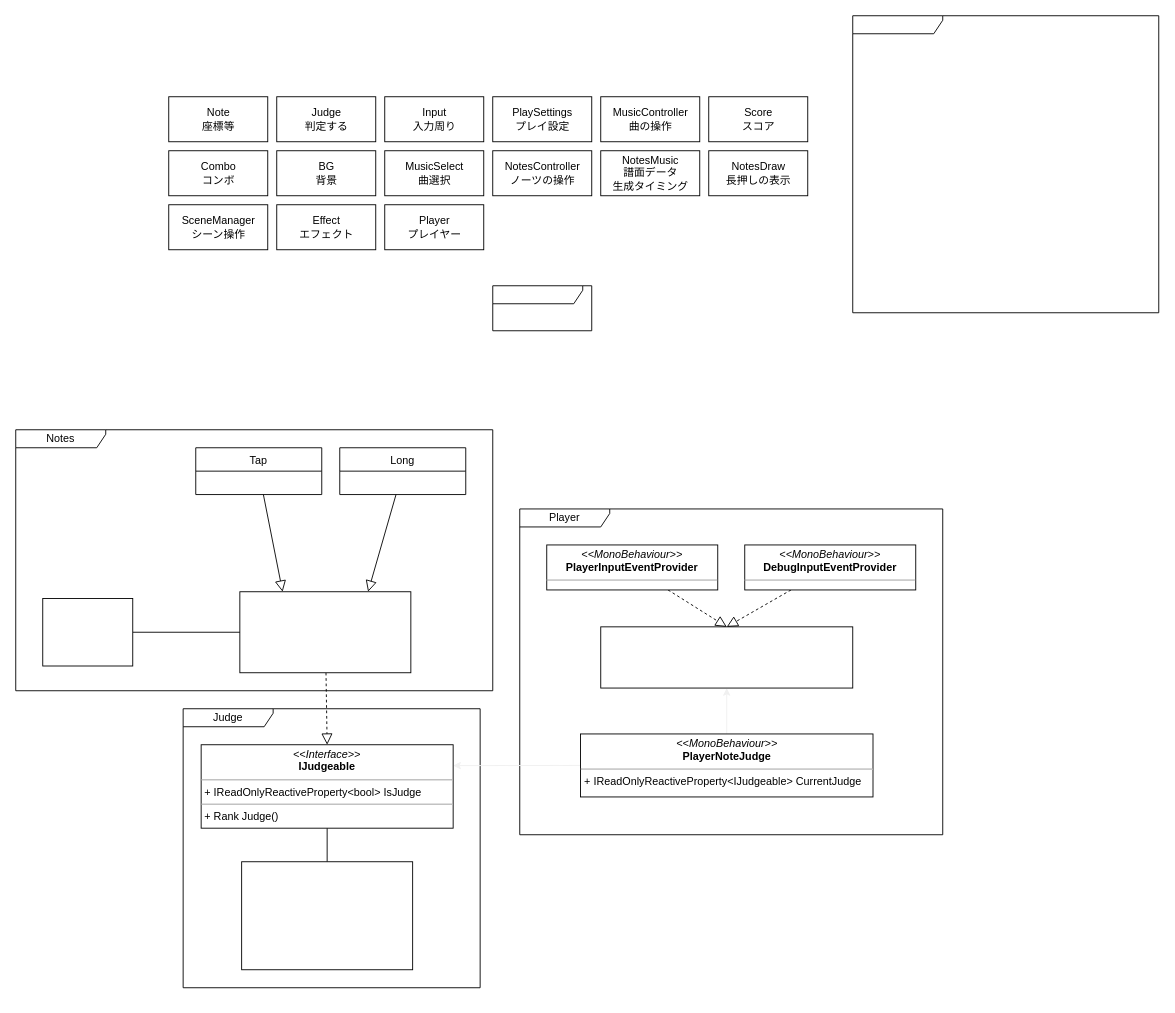
The diagram is 1175 pixels wide and 1013 high, and some of its shapes have lost their labels. The centre of each missing label's shape, as x and y in pixels:
"<<Enum>> Rank + Perfect + Great + Good + Bad + Miss" goes at (327,915).
"<<Enum>> Type + Tap + Long" goes at (87,632).
"<<Interface>> IInputEventProvider + IReadOnlyReactiveProperty<Vector2> Touch" goes at (726,657).
"<<MonoBehaviour>> BaseNote + Type type" goes at (325,632).
"Manager" goes at (542,308).
"Stages" goes at (1005,164).
